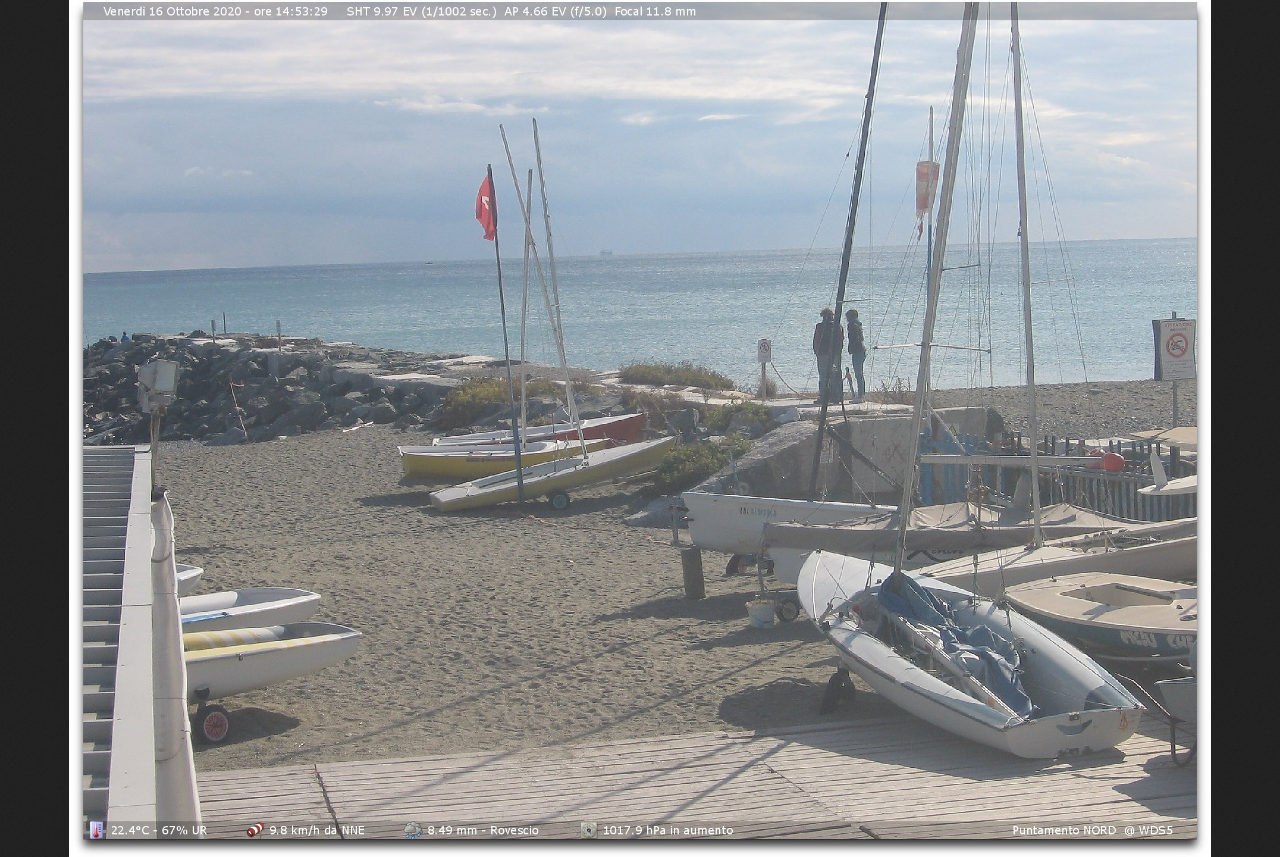no: (471, 160, 500, 247)
